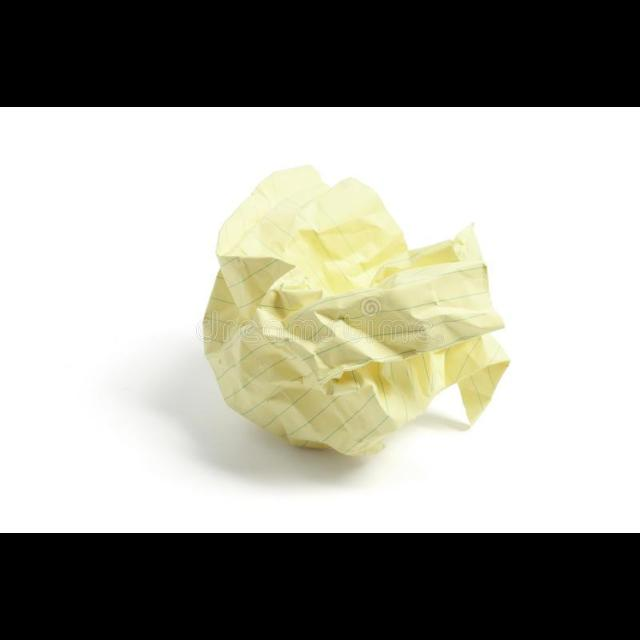scrap_paper: (198, 163, 514, 457)
